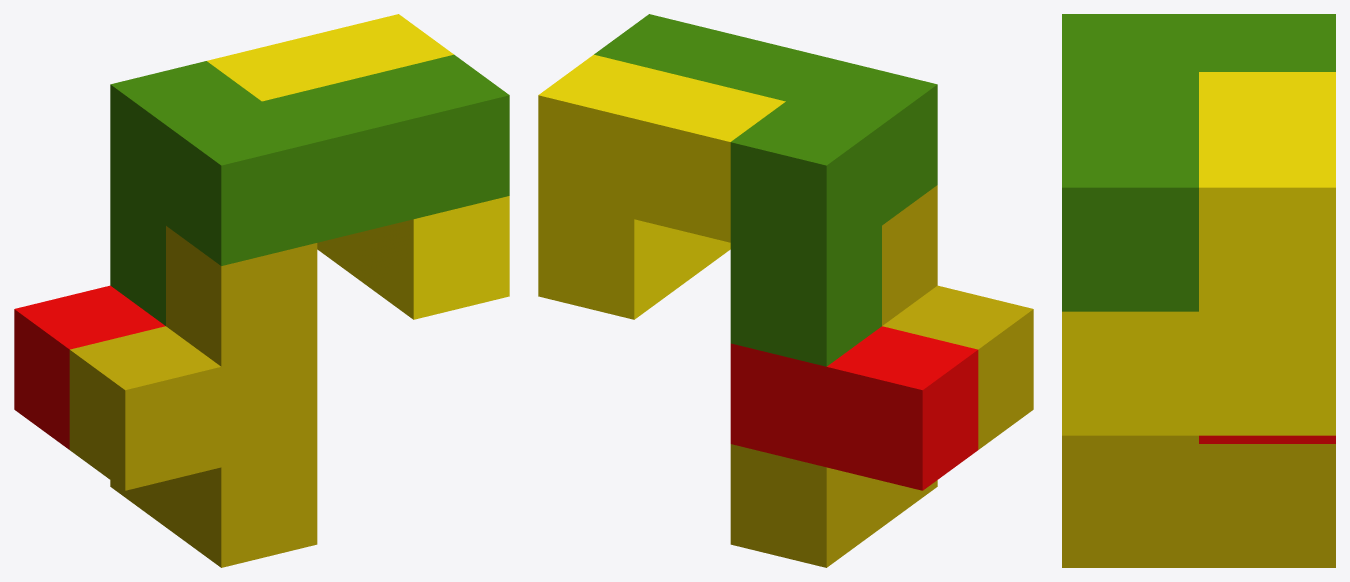
3 renders of one model, left to right at view 1: azimuth 30°, elevation 25°; view 2: azimuth 150°, elevation 25°; view 3: azimuth 270°, elevation 25°, orthographic. The views are drawn at different scales.
Visible parts, largest first — view 1: mergedBlocks(Clone); view 2: mergedBlocks(Clone); view 3: mergedBlocks(Clone).
Boxes of the visible parts, <box> form: mergedBlocks(Clone): <box>14,14,509,567</box>; mergedBlocks(Clone): <box>538,14,1033,567</box>; mergedBlocks(Clone): <box>1062,14,1335,567</box>.
Bounding box in the file's own units: 4 × 4 × 2.
Materials: 4 (4 with a texture image).
